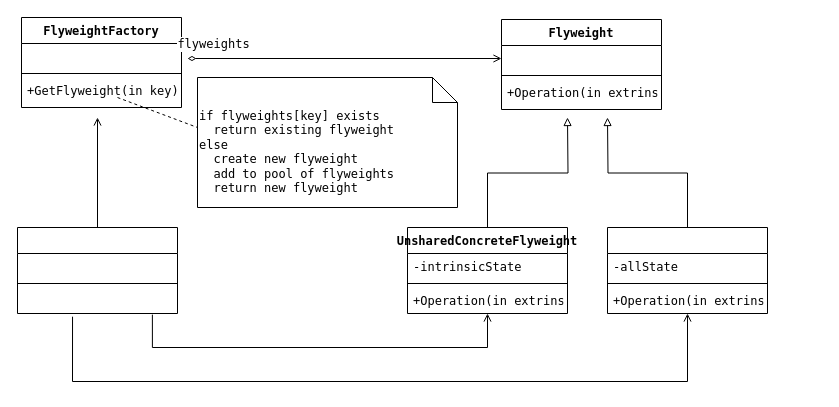
This 839x407 diagram has some shape labels left out. The box of each missing label's shape, as (x1, y1, x2, y2) in pixels:
Client: (16, 226, 178, 314)
ConcreteFlyweight: (606, 226, 768, 314)
